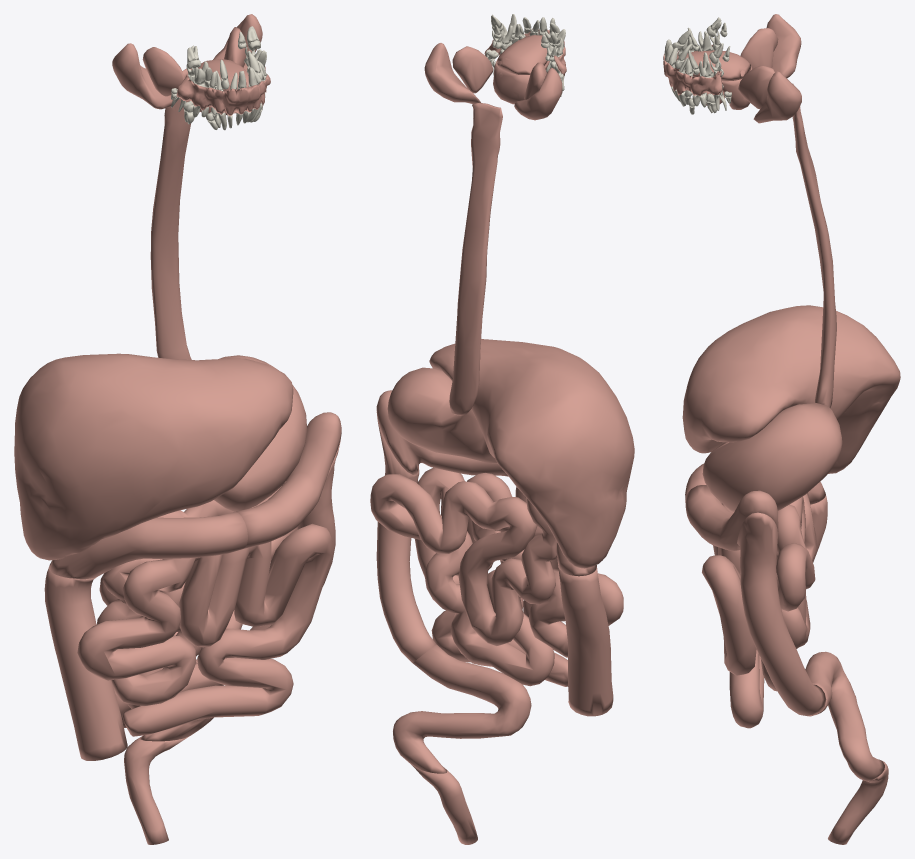
The model's file is pediatric_child_10y_female.digestive.LOD1.glb.
3 views of the same model, side by side, from view 1: azimuth 30°, elevation 25°; view 2: azimuth 150°, elevation 25°; view 3: azimuth 270°, elevation 25° (orthographic). The views are drawn at different scales.
Parts seen in each view (by area): view 1: PEDIATRIC.CHILD_10Y.FEMALE.DIGESTIVE.LIVER, PEDIATRIC.CHILD_10Y.FEMALE.DIGESTIVE.SMALL_INTESTINE_WALL, PEDIATRIC.CHILD_10Y.FEMALE.DIGESTIVE.ASCENDING_COLON_WALL, PEDIATRIC.CHILD_10Y.FEMALE.DIGESTIVE.OESOPHAGUS_WALL, PEDIATRIC.CHILD_10Y.FEMALE.DIGESTIVE.TRANSVERSE_COLON_WALL.R, PEDIATRIC.CHILD_10Y.FEMALE.DIGESTIVE.TRANSVERSE_COLON_WALL.L, PEDIATRIC.CHILD_10Y.FEMALE.DIGESTIVE.STOMACH_WALL, PEDIATRIC.CHILD_10Y.FEMALE.DIGESTIVE.SALIVARY_GLANDS.R, PEDIATRIC.CHILD_10Y.FEMALE.DIGESTIVE.RECTUM_WALL, PEDIATRIC.CHILD_10Y.FEMALE.DIGESTIVE.PERMANENT_CEMENTUM, PEDIATRIC.CHILD_10Y.FEMALE.DIGESTIVE.ORAL_MUCOSA_LIP_AND_CHE, PEDIATRIC.CHILD_10Y.FEMALE.DIGESTIVE.DESCENDING_COLON_WALL (+3 smaller); view 2: PEDIATRIC.CHILD_10Y.FEMALE.DIGESTIVE.SMALL_INTESTINE_WALL, PEDIATRIC.CHILD_10Y.FEMALE.DIGESTIVE.LIVER, PEDIATRIC.CHILD_10Y.FEMALE.DIGESTIVE.OESOPHAGUS_WALL, PEDIATRIC.CHILD_10Y.FEMALE.DIGESTIVE.SIGMOID_COLON_WALL, PEDIATRIC.CHILD_10Y.FEMALE.DIGESTIVE.ASCENDING_COLON_WALL, PEDIATRIC.CHILD_10Y.FEMALE.DIGESTIVE.STOMACH_WALL, PEDIATRIC.CHILD_10Y.FEMALE.DIGESTIVE.DESCENDING_COLON_WALL, PEDIATRIC.CHILD_10Y.FEMALE.DIGESTIVE.SALIVARY_GLANDS.L, PEDIATRIC.CHILD_10Y.FEMALE.DIGESTIVE.TRANSVERSE_COLON_WALL.L, PEDIATRIC.CHILD_10Y.FEMALE.DIGESTIVE.RECTUM_WALL, PEDIATRIC.CHILD_10Y.FEMALE.DIGESTIVE.SALIVARY_GLANDS.R, PEDIATRIC.CHILD_10Y.FEMALE.DIGESTIVE.ORAL_MUCOSA_MOUTH_FLOOR (+2 smaller); view 3: PEDIATRIC.CHILD_10Y.FEMALE.DIGESTIVE.LIVER, PEDIATRIC.CHILD_10Y.FEMALE.DIGESTIVE.SMALL_INTESTINE_WALL, PEDIATRIC.CHILD_10Y.FEMALE.DIGESTIVE.STOMACH_WALL, PEDIATRIC.CHILD_10Y.FEMALE.DIGESTIVE.DESCENDING_COLON_WALL, PEDIATRIC.CHILD_10Y.FEMALE.DIGESTIVE.SIGMOID_COLON_WALL, PEDIATRIC.CHILD_10Y.FEMALE.DIGESTIVE.OESOPHAGUS_WALL, PEDIATRIC.CHILD_10Y.FEMALE.DIGESTIVE.TRANSVERSE_COLON_WALL.L, PEDIATRIC.CHILD_10Y.FEMALE.DIGESTIVE.SALIVARY_GLANDS.L, PEDIATRIC.CHILD_10Y.FEMALE.DIGESTIVE.SALIVARY_GLANDS.R, PEDIATRIC.CHILD_10Y.FEMALE.DIGESTIVE.PERMANENT_CEMENTUM, PEDIATRIC.CHILD_10Y.FEMALE.DIGESTIVE.RECTUM_WALL, PEDIATRIC.CHILD_10Y.FEMALE.DIGESTIVE.ORAL_MUCOSA_LIP_AND_CHE (+5 smaller).
Boxes of the visible parts, <box> form: PEDIATRIC.CHILD_10Y.FEMALE.DIGESTIVE.LIVER: <box>14,353,293,560</box>; PEDIATRIC.CHILD_10Y.FEMALE.DIGESTIVE.SMALL_INTESTINE_WALL: <box>77,481,332,736</box>; PEDIATRIC.CHILD_10Y.FEMALE.DIGESTIVE.ASCENDING_COLON_WALL: <box>44,568,127,760</box>; PEDIATRIC.CHILD_10Y.FEMALE.DIGESTIVE.OESOPHAGUS_WALL: <box>150,68,191,359</box>; PEDIATRIC.CHILD_10Y.FEMALE.DIGESTIVE.TRANSVERSE_COLON_WALL.R: <box>49,512,247,579</box>; PEDIATRIC.CHILD_10Y.FEMALE.DIGESTIVE.TRANSVERSE_COLON_WALL.L: <box>234,412,341,548</box>; PEDIATRIC.CHILD_10Y.FEMALE.DIGESTIVE.STOMACH_WALL: <box>214,355,307,511</box>; PEDIATRIC.CHILD_10Y.FEMALE.DIGESTIVE.SALIVARY_GLANDS.R: <box>112,43,227,114</box>; PEDIATRIC.CHILD_10Y.FEMALE.DIGESTIVE.RECTUM_WALL: <box>124,736,189,844</box>; PEDIATRIC.CHILD_10Y.FEMALE.DIGESTIVE.PERMANENT_CEMENTUM: <box>171,26,266,130</box>; PEDIATRIC.CHILD_10Y.FEMALE.DIGESTIVE.ORAL_MUCOSA_LIP_AND_CHE: <box>176,66,270,115</box>; PEDIATRIC.CHILD_10Y.FEMALE.DIGESTIVE.DESCENDING_COLON_WALL: <box>250,440,340,630</box>; PEDIATRIC.CHILD_10Y.FEMALE.DIGESTIVE.SMALL_INTESTINE_WALL: <box>370,467,623,686</box>; PEDIATRIC.CHILD_10Y.FEMALE.DIGESTIVE.LIVER: <box>429,339,634,568</box>; PEDIATRIC.CHILD_10Y.FEMALE.DIGESTIVE.OESOPHAGUS_WALL: <box>449,102,502,415</box>; PEDIATRIC.CHILD_10Y.FEMALE.DIGESTIVE.SIGMOID_COLON_WALL: <box>393,644,531,773</box>; PEDIATRIC.CHILD_10Y.FEMALE.DIGESTIVE.ASCENDING_COLON_WALL: <box>558,567,613,716</box>; PEDIATRIC.CHILD_10Y.FEMALE.DIGESTIVE.STOMACH_WALL: <box>387,367,497,463</box>; PEDIATRIC.CHILD_10Y.FEMALE.DIGESTIVE.DESCENDING_COLON_WALL: <box>376,411,436,662</box>; PEDIATRIC.CHILD_10Y.FEMALE.DIGESTIVE.SALIVARY_GLANDS.L: <box>424,43,493,103</box>; PEDIATRIC.CHILD_10Y.FEMALE.DIGESTIVE.TRANSVERSE_COLON_WALL.L: <box>376,390,508,476</box>; PEDIATRIC.CHILD_10Y.FEMALE.DIGESTIVE.RECTUM_WALL: <box>412,765,477,844</box>; PEDIATRIC.CHILD_10Y.FEMALE.DIGESTIVE.SALIVARY_GLANDS.R: <box>514,62,562,120</box>; PEDIATRIC.CHILD_10Y.FEMALE.DIGESTIVE.ORAL_MUCOSA_MOUTH_FLOOR: <box>496,35,548,74</box>; PEDIATRIC.CHILD_10Y.FEMALE.DIGESTIVE.LIVER: <box>682,305,900,473</box>; PEDIATRIC.CHILD_10Y.FEMALE.DIGESTIVE.SMALL_INTESTINE_WALL: <box>702,493,816,728</box>; PEDIATRIC.CHILD_10Y.FEMALE.DIGESTIVE.STOMACH_WALL: <box>702,403,842,511</box>; PEDIATRIC.CHILD_10Y.FEMALE.DIGESTIVE.DESCENDING_COLON_WALL: <box>737,512,826,716</box>; PEDIATRIC.CHILD_10Y.FEMALE.DIGESTIVE.SIGMOID_COLON_WALL: <box>805,651,884,781</box>; PEDIATRIC.CHILD_10Y.FEMALE.DIGESTIVE.OESOPHAGUS_WALL: <box>792,83,836,407</box>; PEDIATRIC.CHILD_10Y.FEMALE.DIGESTIVE.TRANSVERSE_COLON_WALL.L: <box>685,485,778,550</box>; PEDIATRIC.CHILD_10Y.FEMALE.DIGESTIVE.SALIVARY_GLANDS.L: <box>706,66,801,123</box>; PEDIATRIC.CHILD_10Y.FEMALE.DIGESTIVE.SALIVARY_GLANDS.R: <box>740,14,801,78</box>; PEDIATRIC.CHILD_10Y.FEMALE.DIGESTIVE.PERMANENT_CEMENTUM: <box>664,17,731,114</box>; PEDIATRIC.CHILD_10Y.FEMALE.DIGESTIVE.RECTUM_WALL: <box>828,760,888,844</box>; PEDIATRIC.CHILD_10Y.FEMALE.DIGESTIVE.ORAL_MUCOSA_LIP_AND_CHE: <box>663,44,722,95</box>.
Bounding box in the file's own units: 0.2201 × 0.6226 × 0.1642.
